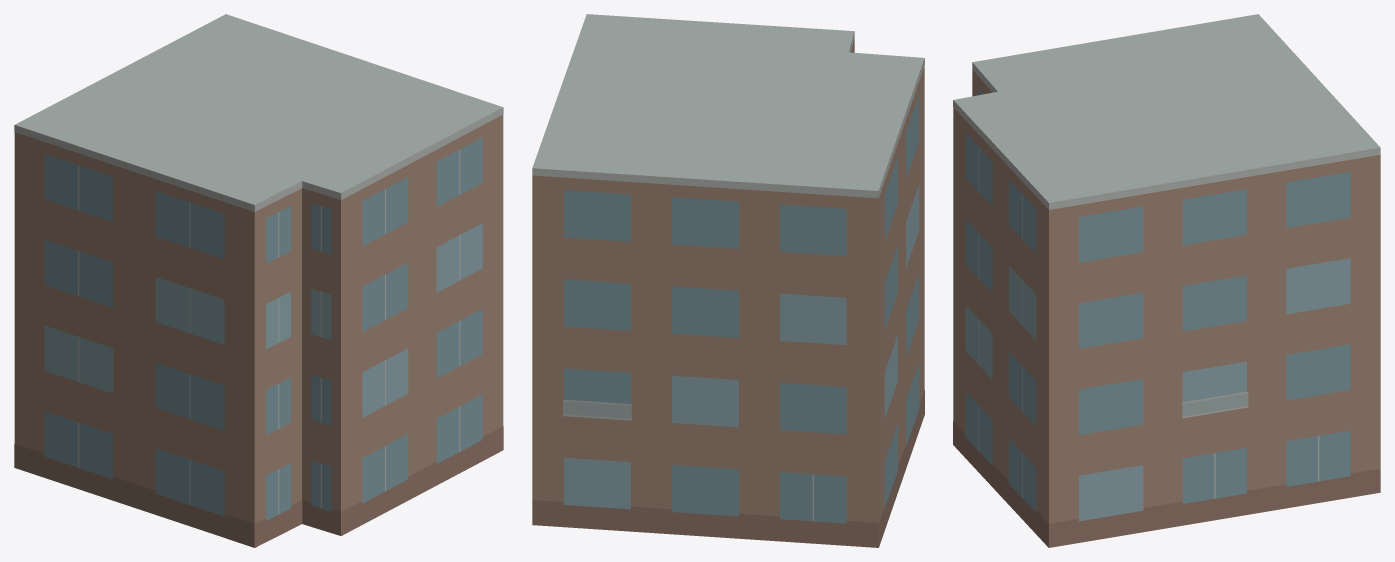
The model's file is survey-upis-32710105.glb.
The picture shows the model from 3 angles, left to right: view 1: azimuth 30°, elevation 25°; view 2: azimuth 150°, elevation 25°; view 3: azimuth 270°, elevation 25°; orthographic projection. The views are drawn at different scales.
Parts seen in each view (by area): view 1: survey-upis-32710105.tmp; view 2: survey-upis-32710105.tmp; view 3: survey-upis-32710105.tmp.
Part boxes in pixels (x1,y1,x2,y2): survey-upis-32710105.tmp: [14, 14, 503, 547]; survey-upis-32710105.tmp: [532, 14, 924, 547]; survey-upis-32710105.tmp: [953, 14, 1380, 547].
Bounding box in the file's own units: 14.05 × 11.95 × 13.43.
